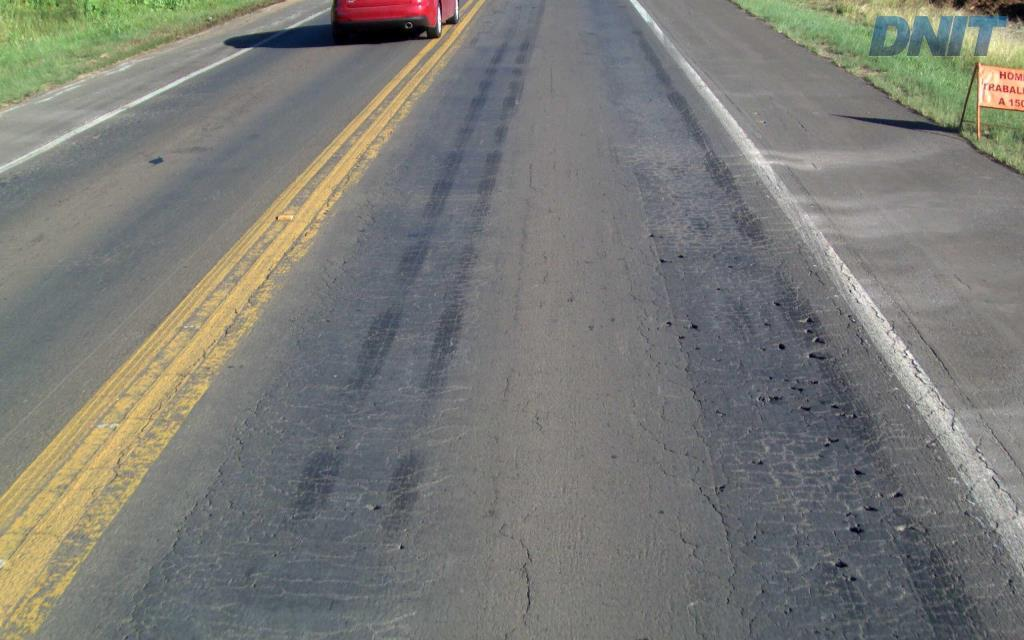crack: (830, 402, 876, 440)
pothole: (821, 432, 839, 447), (807, 348, 827, 361), (805, 373, 822, 387), (756, 392, 785, 400), (846, 522, 863, 535), (365, 500, 385, 509), (889, 486, 905, 497), (832, 558, 849, 568), (812, 333, 829, 343), (791, 384, 806, 395), (657, 253, 671, 264), (663, 316, 675, 328), (770, 298, 784, 308), (862, 502, 877, 511), (691, 318, 703, 329), (844, 573, 859, 581), (850, 467, 865, 475), (795, 404, 812, 411), (674, 332, 686, 340), (777, 340, 787, 348), (803, 326, 813, 334), (803, 316, 816, 322), (830, 400, 841, 407), (762, 317, 770, 325), (646, 230, 654, 238)
